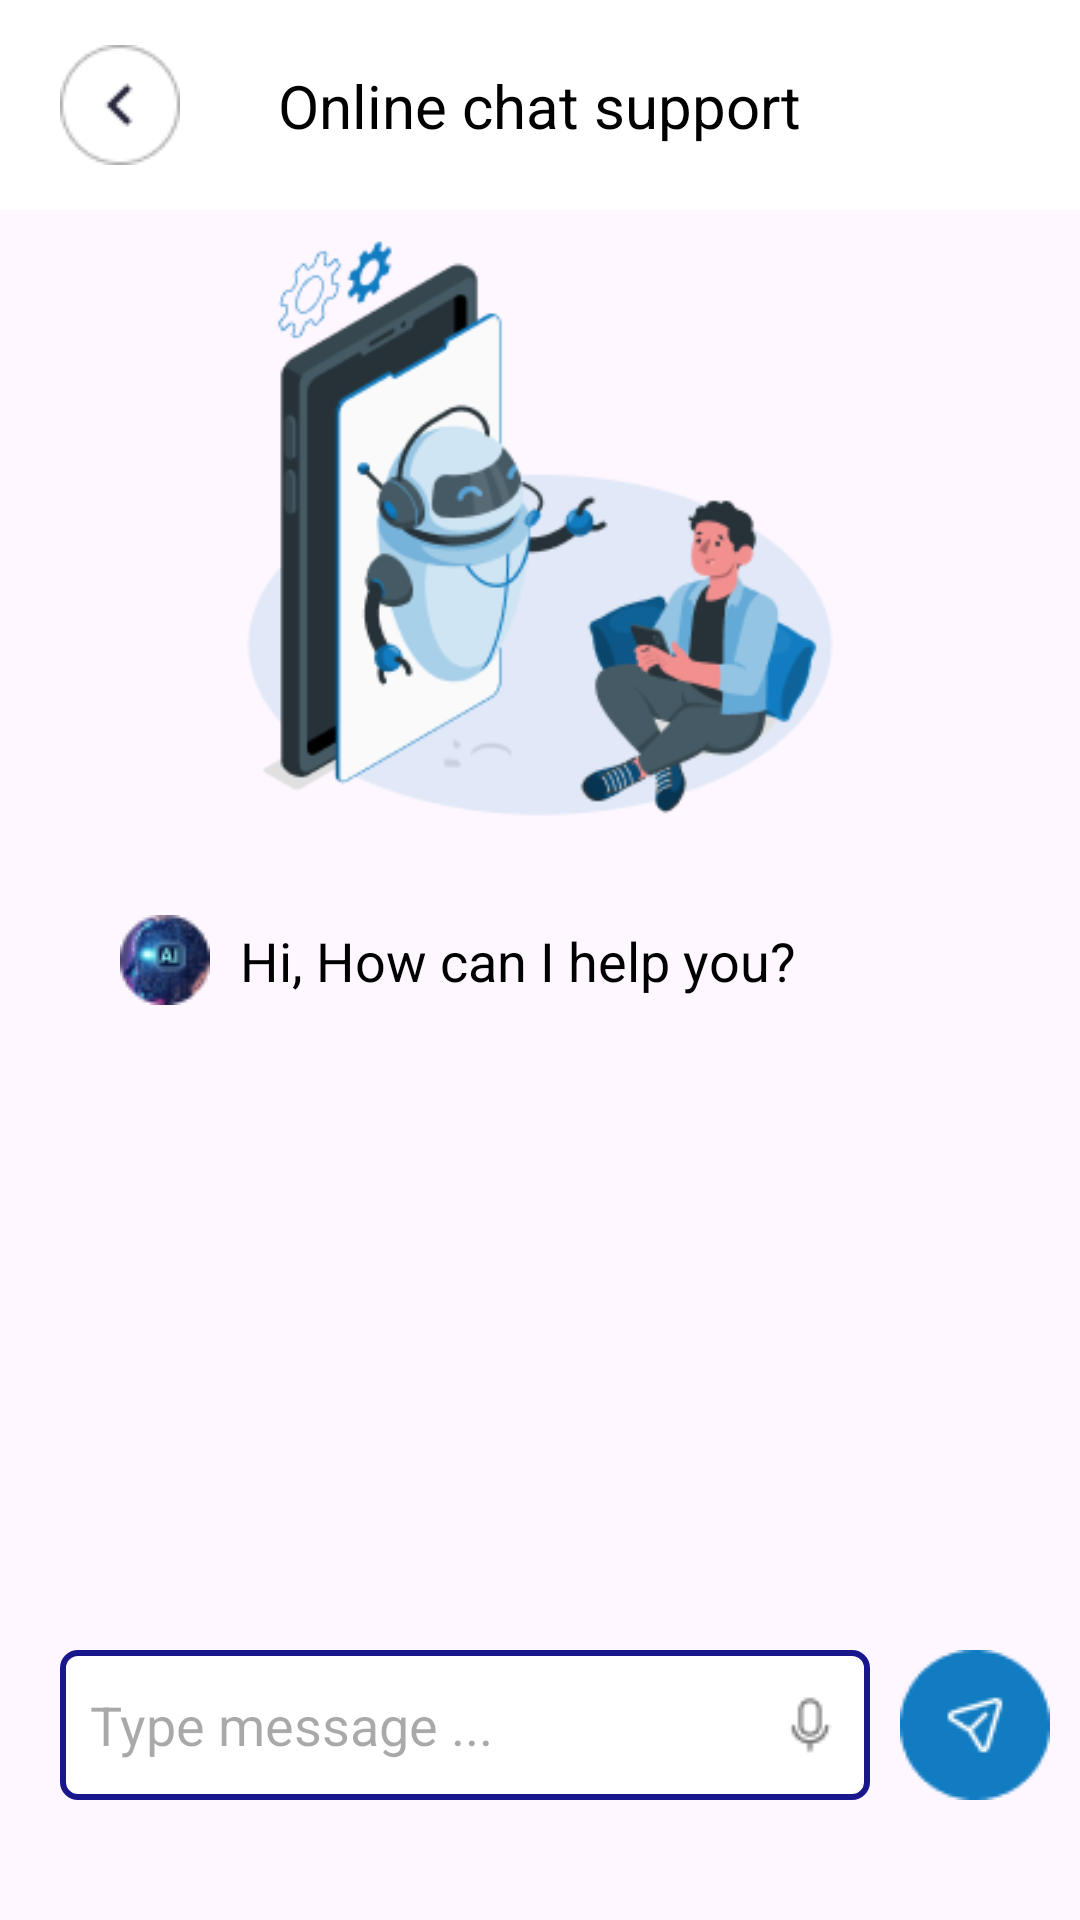

Named icons in this screenshot (1080 × 1920) and their centers, [x,y]:
back arrow: [120,105]
send message: [975,1725]
